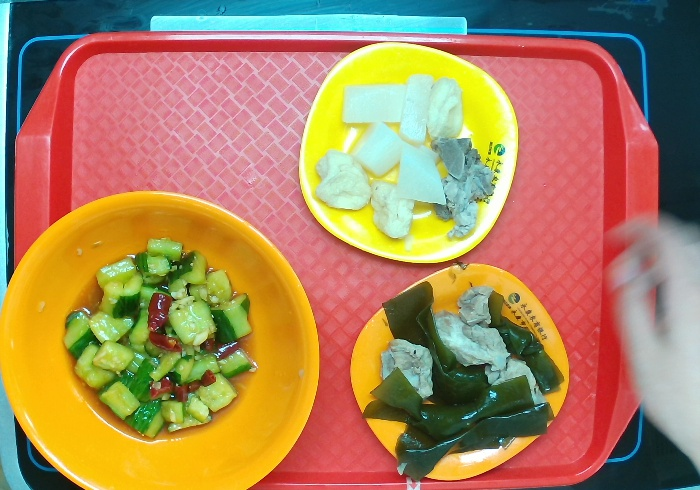YKMZ-Huang_Se_Fang_Die: (297, 39, 521, 265)
YKMZ-Ju_Se_Fang_Die: (348, 263, 570, 485)
YKMZ-Ju_Se_Tang_Wan: (1, 190, 321, 490)
